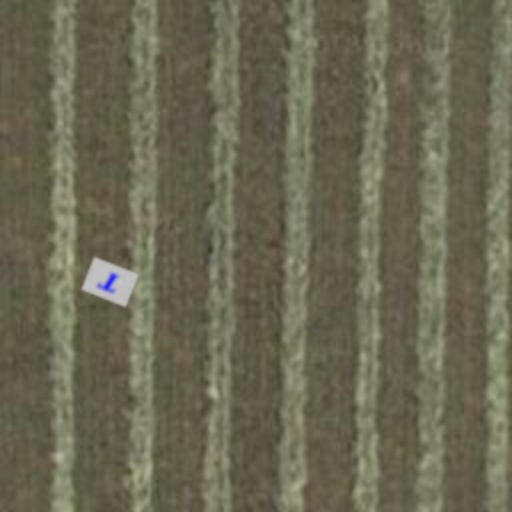rectangle: (78, 250, 142, 314)
